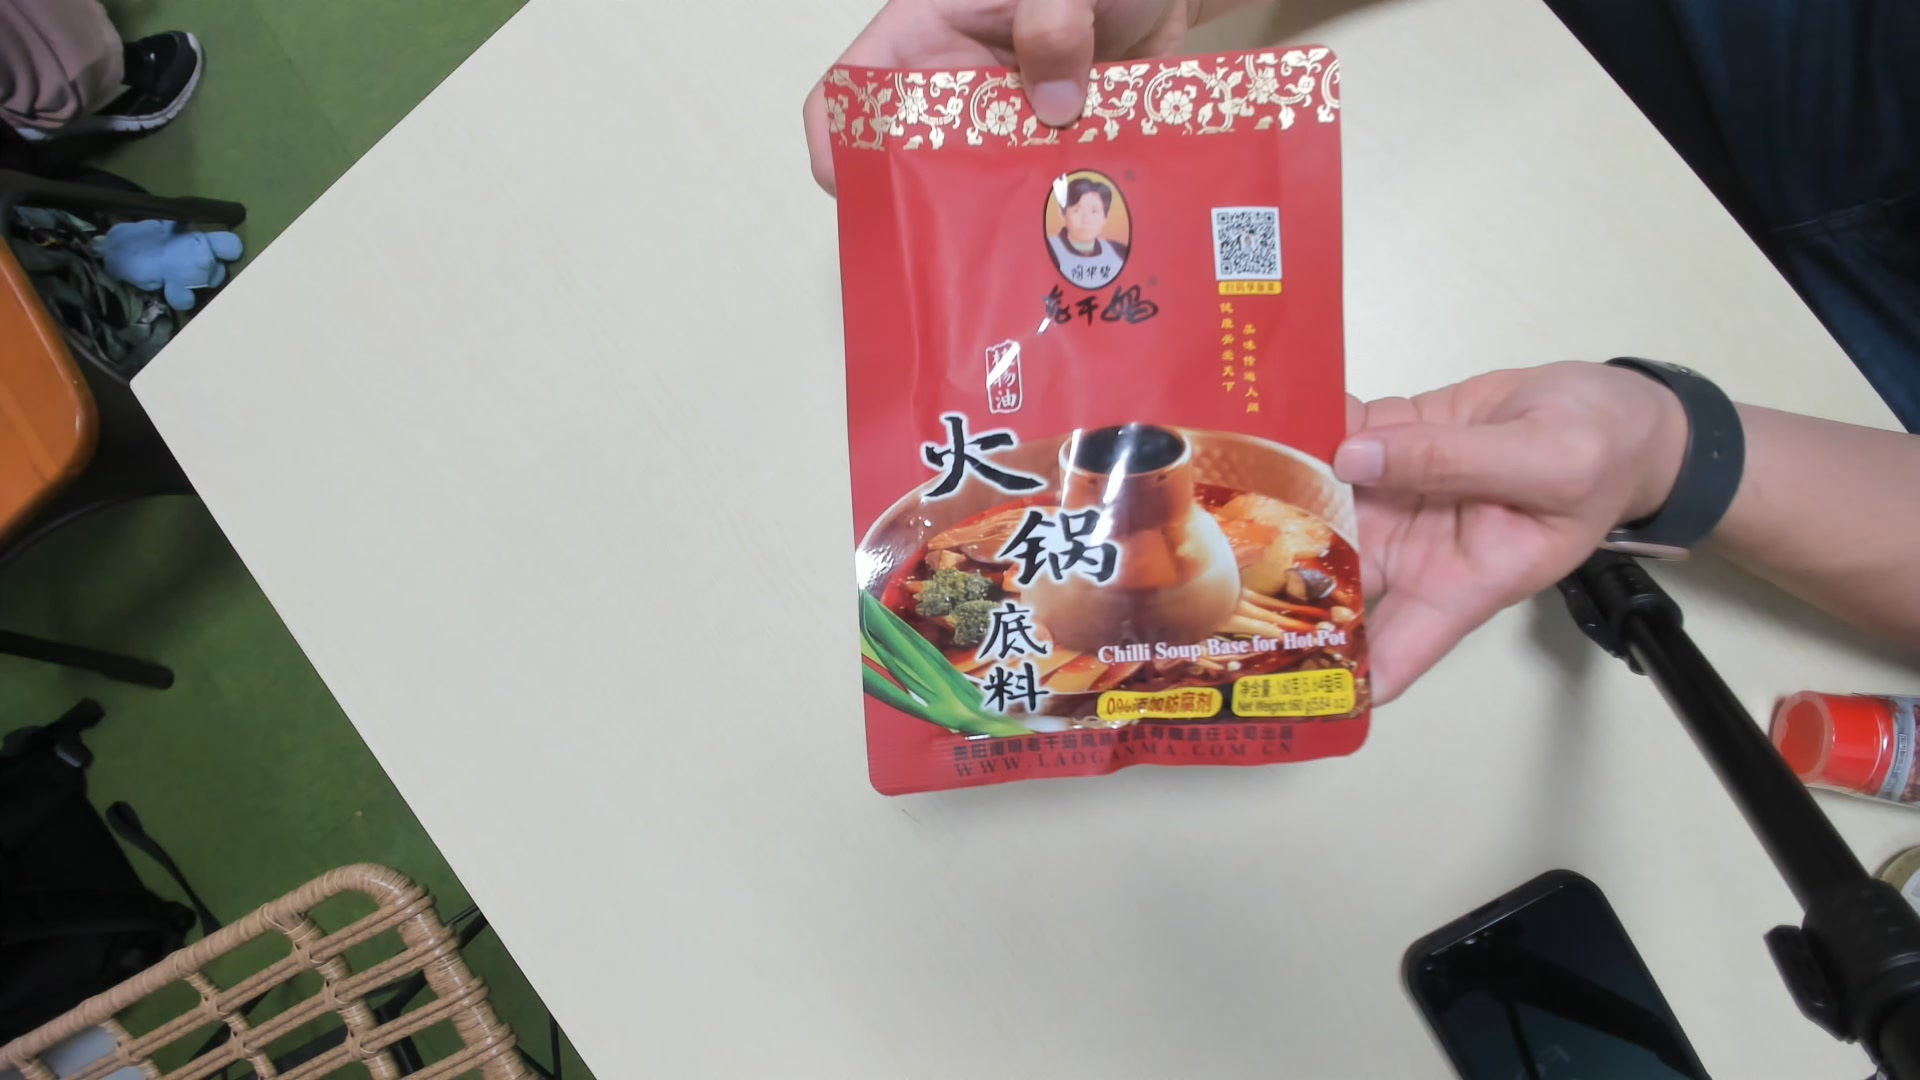OtherSauceDressing_100-199g_NonHalal_NonHealthy: (833, 59, 1379, 791)
